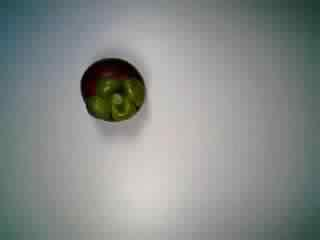mangosteen: (77, 54, 151, 124)
